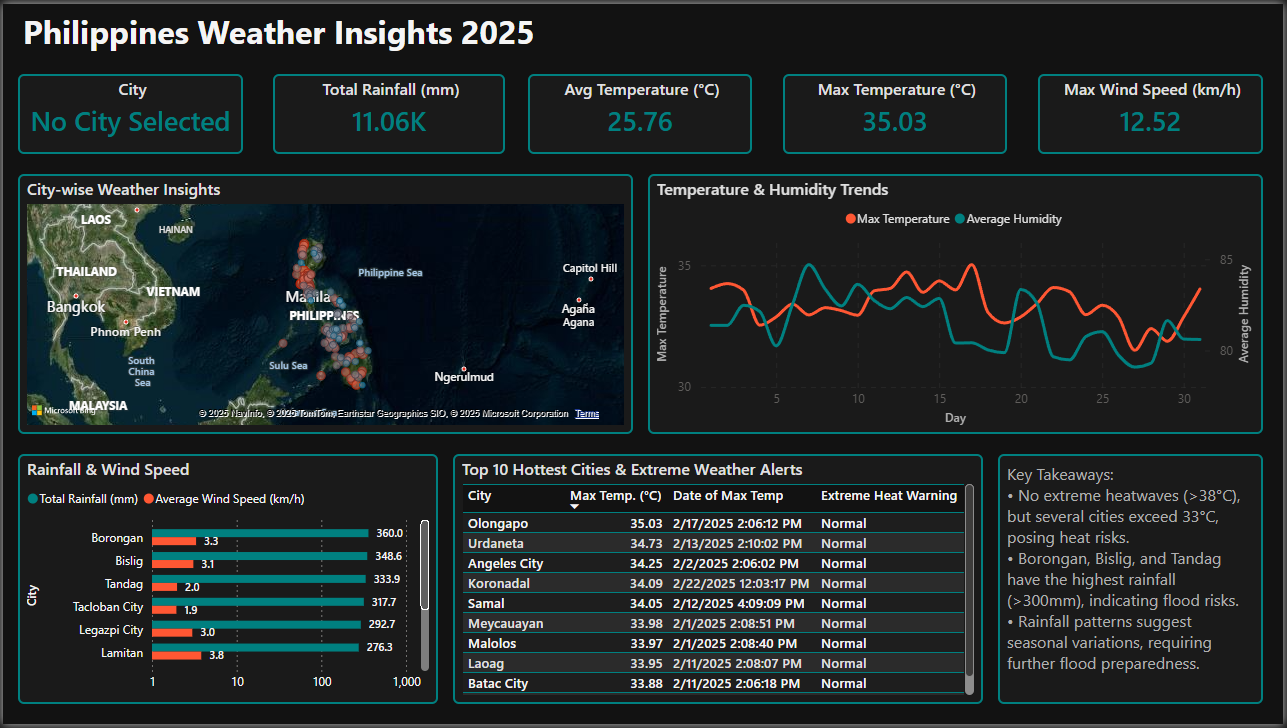

The dashboard page shown, as its layout file describes it:
{"tool":"powerbi","page":{"name":"Philippines Weather Insights","canvas":[1280,720],"ordinal":0},"visuals":[{"type":"card","title":"Total Rainfall (mm)","fields":{"Values":["weather_vw.Total Rainfall (mm)"]},"box":[15,70,300,80],"z":0},{"type":"map","title":"City-wise Weather Insights","fields":{"Y":["weather_vw.latitude"],"X":["weather_vw.longitude"],"Size":["Max(weather_vw.temp_max)"]},"box":[15,170,615,260],"z":1000},{"type":"lineChart","title":"Temperature & Humidity Trends","fields":{"Category":["weather_vw.datetime.Variation.Date Hierarchy.Day"],"Y":["Max(weather_vw.temp_max)"],"Y2":["Avg(weather_vw.humidity)"]},"box":[645,170,615,260],"z":2000},{"type":"clusteredBarChart","title":"Rainfall & Wind Speed","fields":{"Y":["Sum(weather_vw.rainfall)","Avg(weather_vw.wind_speed)"],"Category":["weather_vw.city_name"]},"box":[15,450,420,250],"z":3000},{"type":"tableEx","title":"Top 10 Hottest Cities & Extreme Weather Alerts","fields":{"Values":["Top 10 Hottest Cities.city_name","Sum(Top 10 Hottest Cities.Max Temp)","Top 10 Hottest Cities.Date of Max Temp.Variation.Date Hierarchy.Year","Top 10 Hottest Cities.Extreme Heat Warning"]},"box":[450,450,530,250],"z":4000},{"type":"textbox","box":[15,0,1265,60],"z":5000},{"type":"card","title":"Avg Temperature (°C)","fields":{"Values":["weather_vw.Avg Temperature (°C)"]},"box":[330,70,300,80],"z":7000},{"type":"card","title":"Max Temperature (°C)","fields":{"Values":["Max(weather_vw.temp_max)"]},"box":[645,70,300,80],"z":8000},{"type":"card","title":"Max Wind Speed (km/h)","fields":{"Values":["weather_vw.Max Wind Speed (km/h)"]},"box":[960,70,300,80],"z":9000},{"type":"textbox","box":[995,450,265,250],"z":10000}]}

Visuals, with their boxes in screenshot pixels (x1, y1, x2, y2), scaled from the page's 1280x720 canvas onto the 1287x728 screenshot:
"Total Rainfall (mm)" card: {"x1": 15, "y1": 71, "x2": 317, "y2": 152}
"City-wise Weather Insights" map: {"x1": 15, "y1": 172, "x2": 633, "y2": 435}
"Temperature & Humidity Trends" lineChart: {"x1": 649, "y1": 172, "x2": 1267, "y2": 435}
"Rainfall & Wind Speed" clusteredBarChart: {"x1": 15, "y1": 455, "x2": 437, "y2": 708}
"Top 10 Hottest Cities & Extreme Weather Alerts" tableEx: {"x1": 452, "y1": 455, "x2": 985, "y2": 708}
textbox: {"x1": 15, "y1": 0, "x2": 1286, "y2": 61}
"Avg Temperature (°C)" card: {"x1": 332, "y1": 71, "x2": 633, "y2": 152}
"Max Temperature (°C)" card: {"x1": 649, "y1": 71, "x2": 950, "y2": 152}
"Max Wind Speed (km/h)" card: {"x1": 965, "y1": 71, "x2": 1267, "y2": 152}
textbox: {"x1": 1000, "y1": 455, "x2": 1267, "y2": 708}
